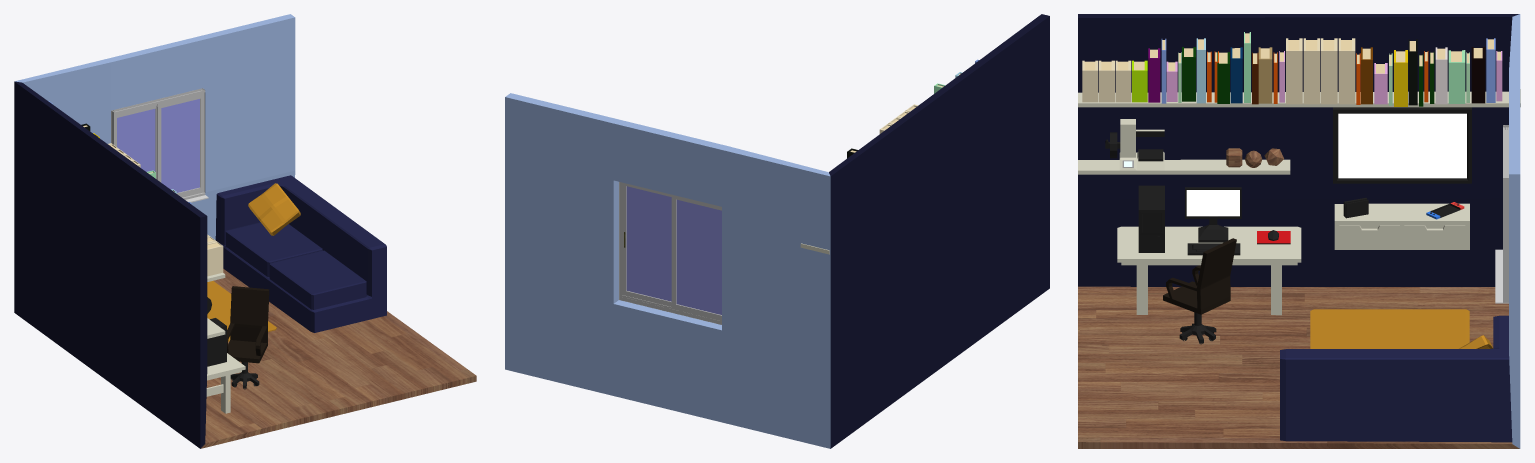
The model's file is our_little_living_room.glb.
3 views of the same model, side by side, from view 1: azimuth 30°, elevation 25°; view 2: azimuth 150°, elevation 25°; view 3: azimuth 270°, elevation 25° (orthographic). The views are drawn at different scales.
Parts seen in each view (by area): view 1: Room, Couch, Window.L, Cube, Seat, Cube.005, Window.R, Cube.006, WindowFrame, Cube.012, PC, Cube.002 (+1 smaller); view 2: Room, Window.R, Window.L, WindowFrame; view 3: Room, Couch, Cube.002, Cube.012, PC, Cube.007, Seat, Cube.010, Cube.011, Cube.015, Cube.009, Cube.008 (+29 smaller).
Boxes of the visible parts, x1,y1,x2,y2 form: Room: [14, 14, 476, 448]; Couch: [215, 175, 386, 332]; Window.L: [156, 93, 203, 197]; Cube: [269, 250, 366, 309]; Seat: [227, 286, 269, 363]; Cube.005: [225, 222, 322, 277]; Window.R: [115, 105, 156, 178]; Cube.006: [248, 183, 300, 235]; WindowFrame: [111, 88, 205, 199]; Cube.012: [207, 281, 276, 341]; PC: [207, 318, 226, 366]; Cube.002: [207, 353, 245, 380]; Room: [505, 14, 1049, 448]; Window.R: [671, 194, 721, 321]; Window.L: [622, 183, 671, 306]; WindowFrame: [619, 182, 721, 324]; Room: [1078, 14, 1520, 448]; Couch: [1280, 315, 1512, 442]; Cube.002: [1117, 107, 1471, 265]; Cube.012: [1310, 309, 1469, 348]; PC: [1138, 185, 1290, 255]; Cube.007: [1334, 203, 1469, 249]; Seat: [1163, 238, 1236, 314]; Cube.010: [1078, 89, 1520, 107]; Cube.011: [1078, 159, 1290, 174]; Cube.015: [1105, 119, 1164, 170]; Cube.009: [1404, 225, 1465, 245]; Cube.008: [1339, 225, 1399, 245].
Size of the model in its own units: 4.08 by 3.26 by 4.77.
41 materials, 1 textured.
